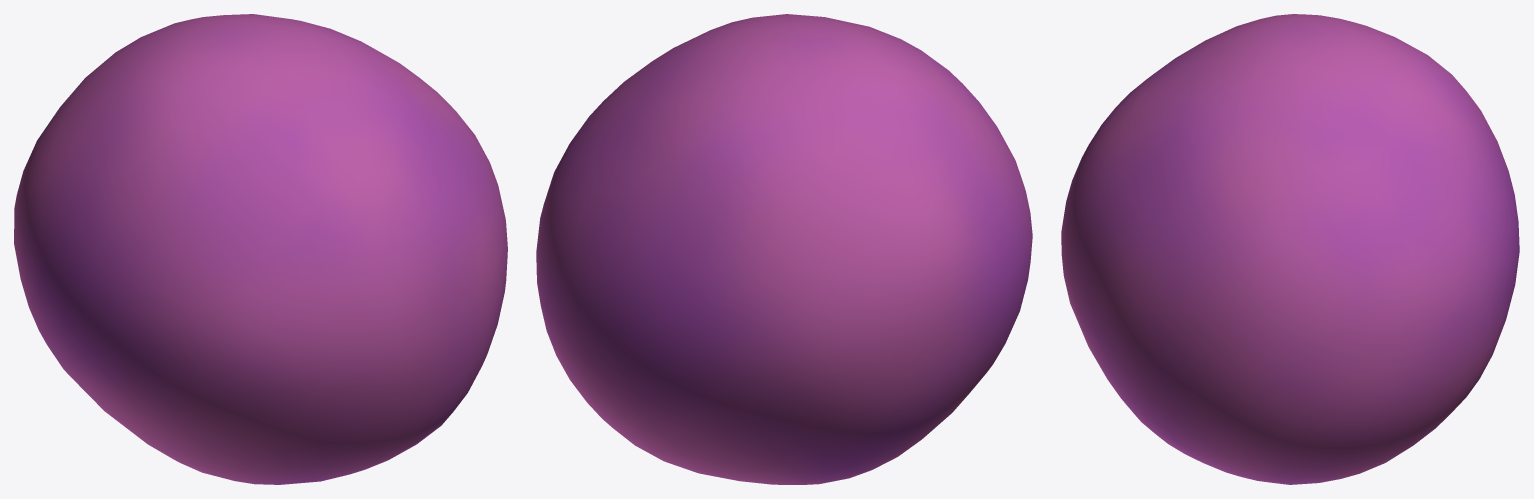
Rendered from goop-blob2.glb.
The picture shows the model from 3 angles, left to right: view 1: azimuth 30°, elevation 25°; view 2: azimuth 150°, elevation 25°; view 3: azimuth 270°, elevation 25°; orthographic projection. The views are drawn at different scales.
Visible parts, largest first — view 1: body; view 2: body; view 3: body.
Boxes of the visible parts, <box> form: body: <box>14,14,507,484</box>; body: <box>536,14,1032,484</box>; body: <box>1061,14,1519,484</box>.
Bounding box in the file's own units: 0.2001 × 0.1935 × 0.1969.
